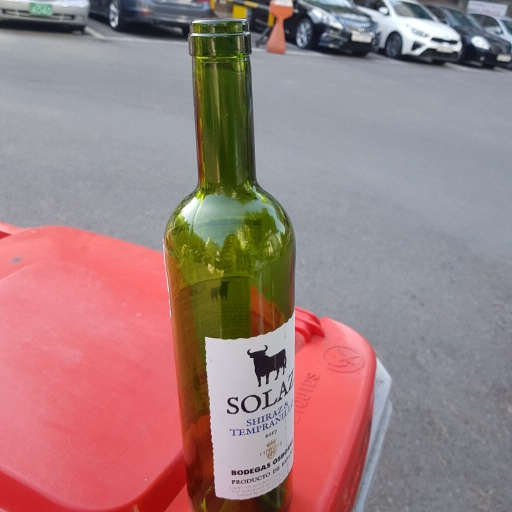Glass_2: (166, 19, 295, 512)
